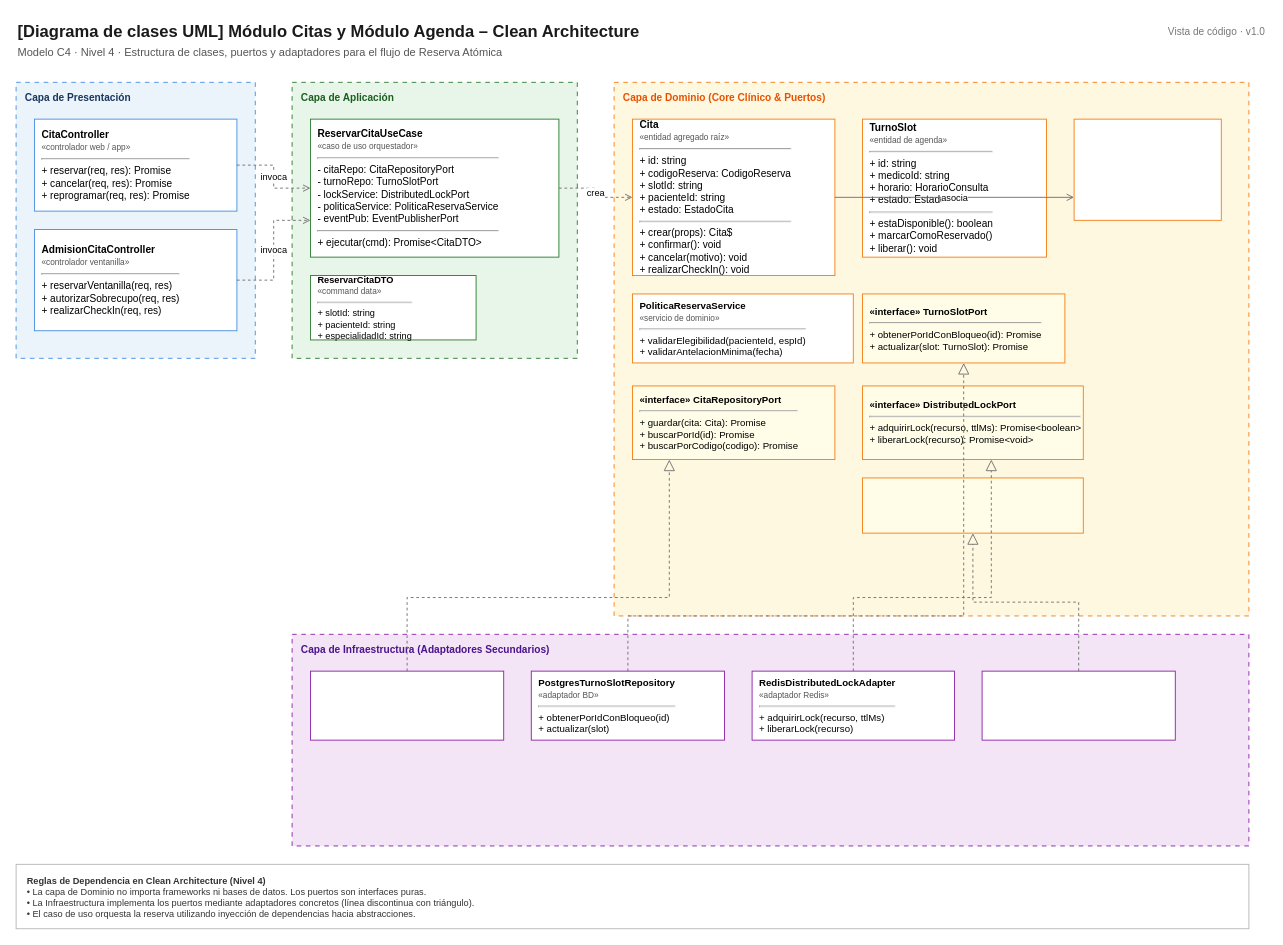
This 1283x945 diagram has some shape labels left out. Each missing label, with the centre of its shape:
EstadoCita «enum» RESERVADA CONFIRMADA EN_SALA ATENDIDA CANCELADA: [1147,169]
PostgresCitaRepository «adaptador BD» + guardar(cita: Cita) + buscarPorId(id): [407,705]
RabbitMQEventPublisher «adaptador Broker» + publicar(evento: DomainEvent): [1078,705]
«interface» EventPublisherPort + publicar(evento: DomainEvent): Promise<void>: [972,505]
